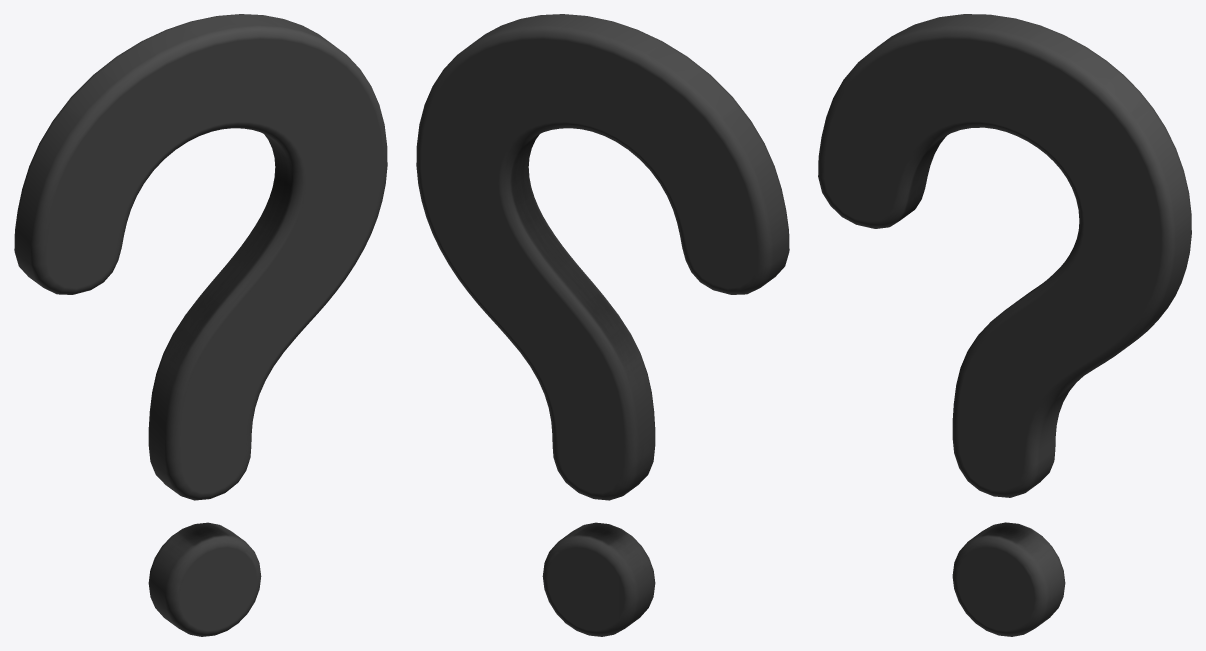
File: First.glb
3 views of the same model, side by side, from view 1: azimuth 30°, elevation 25°; view 2: azimuth 150°, elevation 25°; view 3: azimuth 330°, elevation 25° (orthographic).
Parts seen in each view (by area): view 1: node_id51; view 2: node_id51; view 3: node_id51.
Part boxes in pixels (x1,y1,x2,y2): node_id51: [14, 14, 387, 636]; node_id51: [416, 14, 789, 636]; node_id51: [818, 14, 1191, 636].
Size of the model in its own units: 0.3159 by 0.512 by 0.0396.
Materials: 1 (1 with a texture image).
